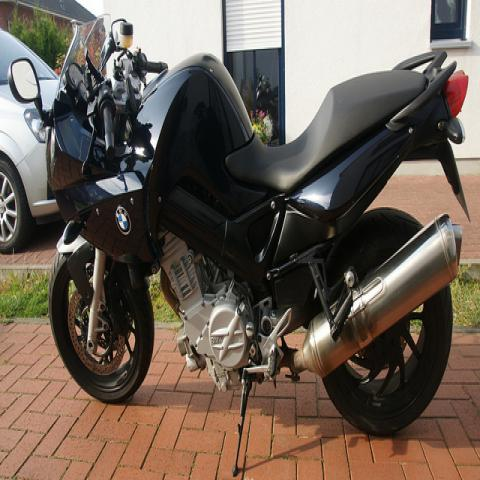car: (1, 27, 66, 254)
motorcycle: (10, 11, 471, 476)
